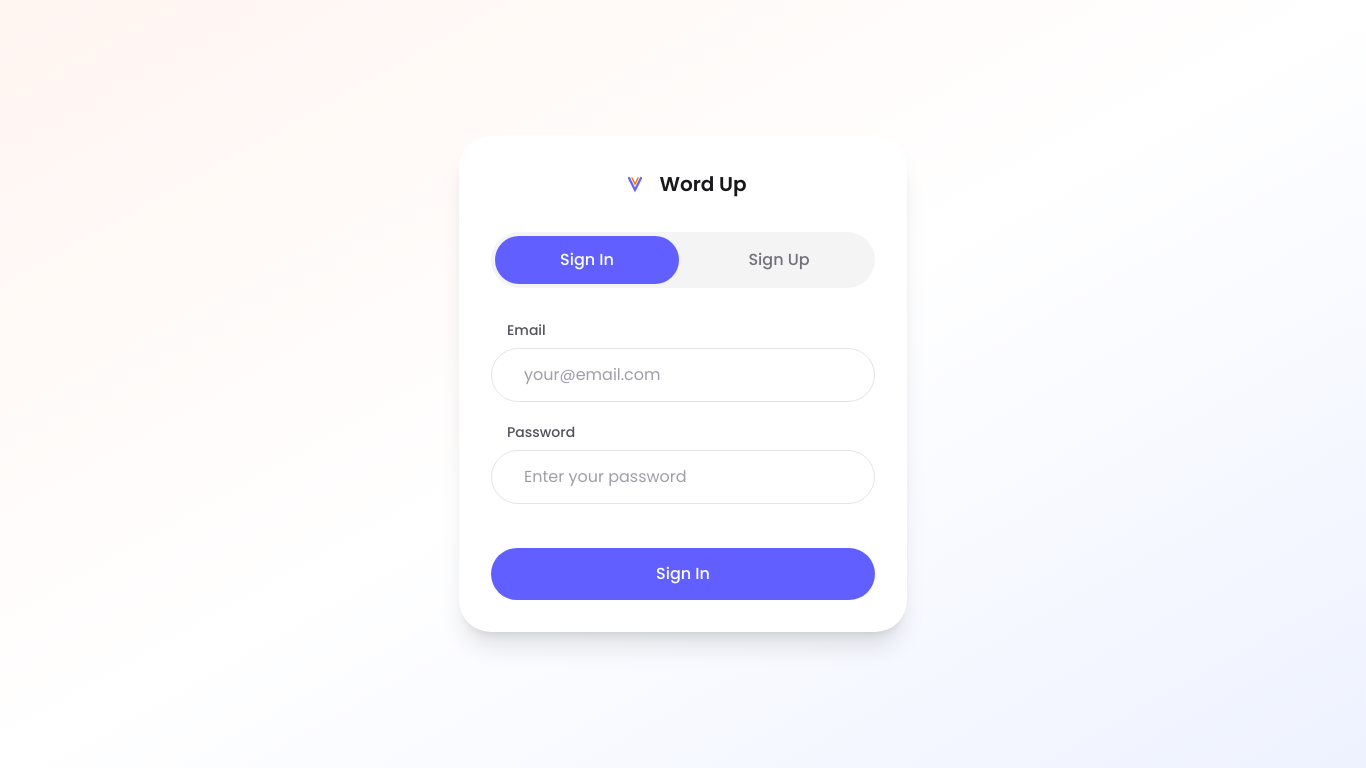
AuthPage › unauthenticated state › should show pending state during register
Click the button "Sign Up" at (779, 260), box [687, 236, 871, 284]
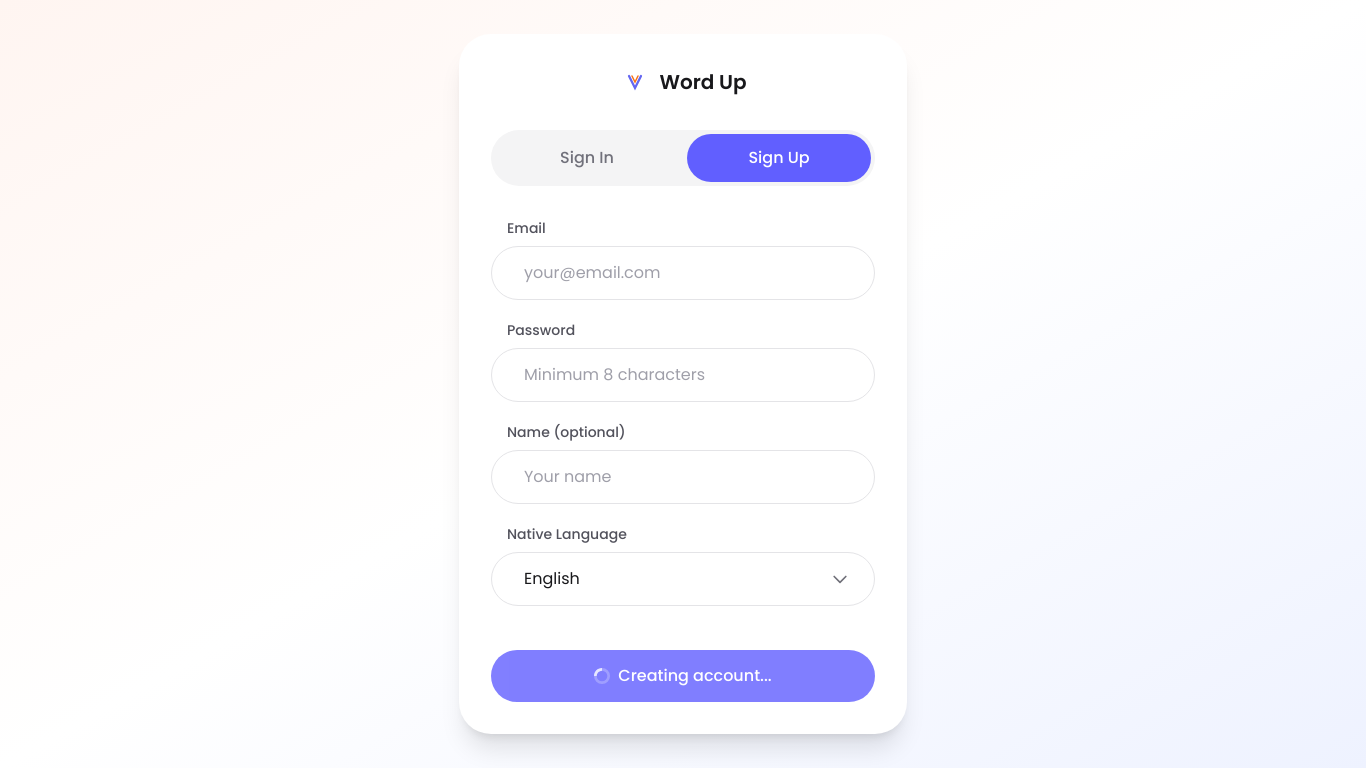
Result: the button "Creating account..." is disabled at [491, 650, 875, 702]
